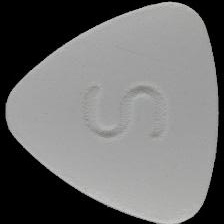16714-533: (0, 0, 224, 224)
